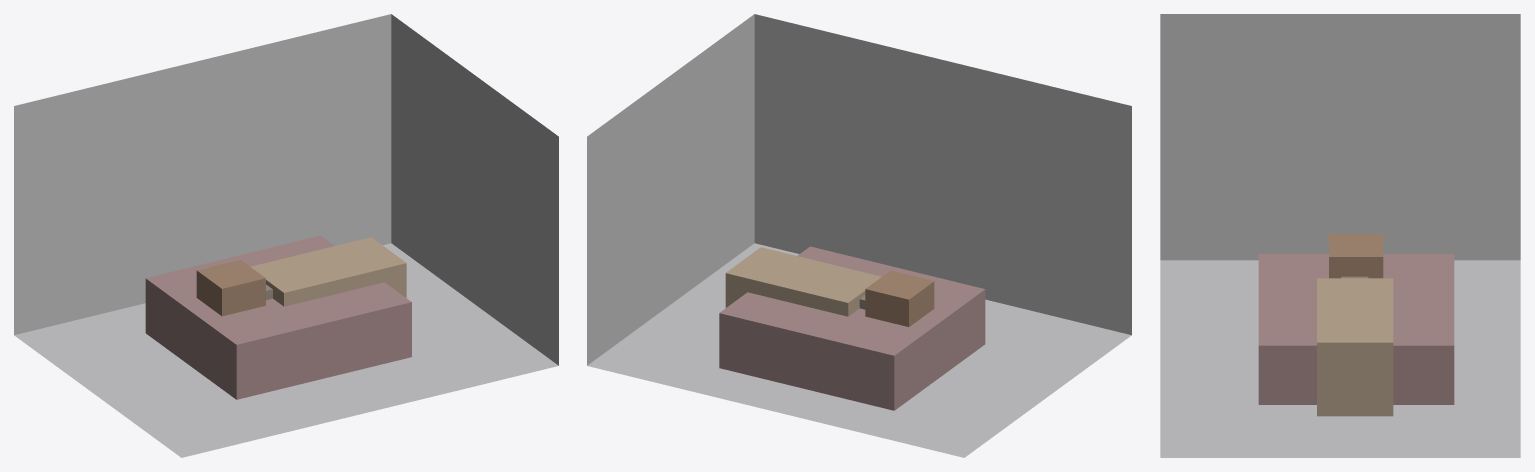
The model's file is current_layout.glb.
3 views of the same model, side by side, from view 1: azimuth 30°, elevation 25°; view 2: azimuth 150°, elevation 25°; view 3: azimuth 270°, elevation 25° (orthographic). The views are drawn at different scales.
Parts seen in each view (by area): view 1: room, bed, desk, chair; view 2: room, bed, desk, chair; view 3: room, bed, desk, chair.
Part boxes in pixels (bbox=[...]): room: bbox=[14, 14, 558, 457]; bed: bbox=[145, 235, 411, 399]; desk: bbox=[250, 237, 406, 306]; chair: bbox=[196, 260, 265, 316]; room: bbox=[587, 14, 1131, 457]; bed: bbox=[719, 246, 985, 410]; desk: bbox=[725, 247, 881, 316]; chair: bbox=[865, 270, 934, 326]; room: bbox=[1160, 14, 1520, 457]; bed: bbox=[1258, 254, 1454, 404]; desk: bbox=[1317, 278, 1393, 416]; chair: bbox=[1329, 234, 1383, 278].
Bounding box in the file's own units: 4.31 × 2.5 × 3.31.
